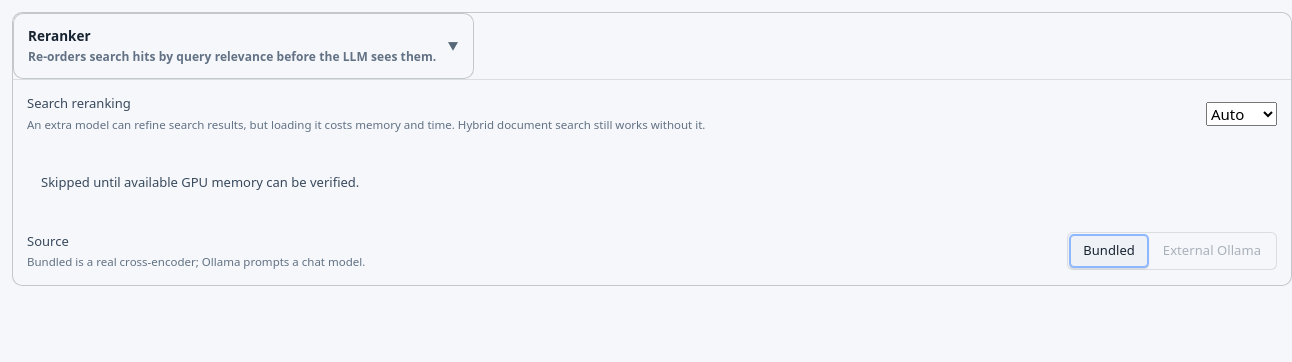
Test: Advanced reranker policy › keeps the current policy and reports a failed save inline
The width and height of the screenshot is (1292, 362).
Select "Always" in the dropdown labelled "Search reranking" at (1242, 114), box [1206,102,1277,126]
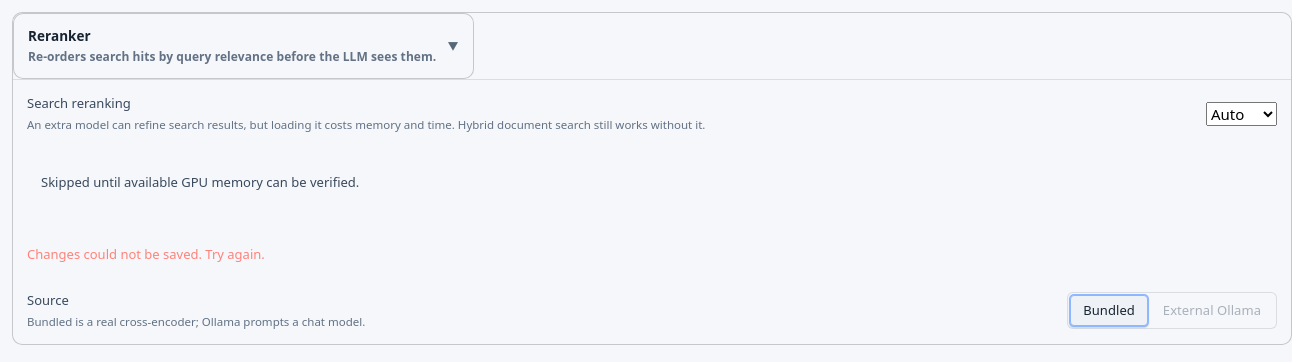
Result: the message "Changes could not be saved. Try again." is shown at [27,245,265,263]
